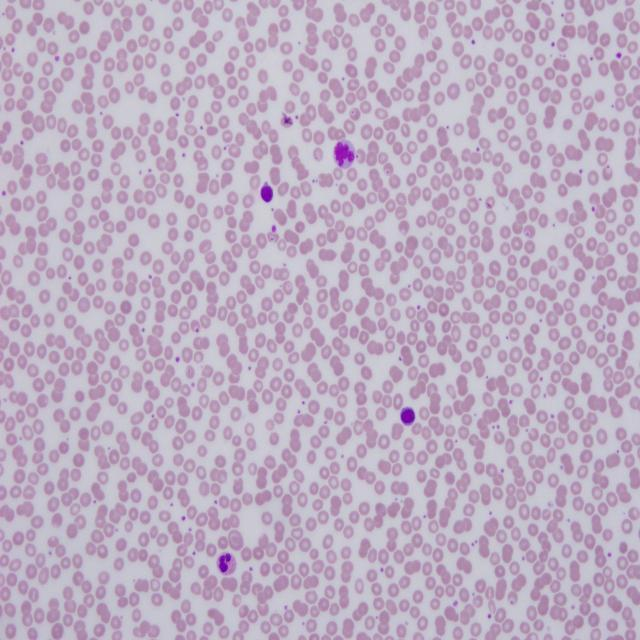cell: (334, 139, 355, 169), (218, 553, 236, 575)
